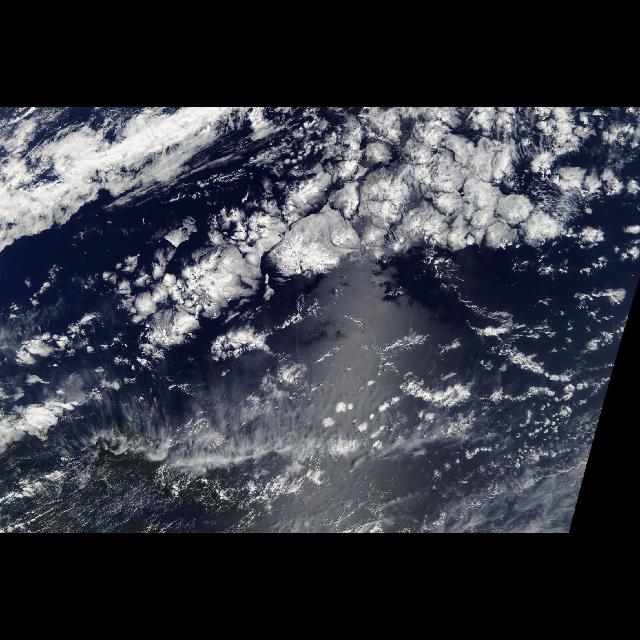Fish: (1, 107, 237, 239), (188, 306, 304, 368)
Flower: (9, 115, 628, 332), (8, 343, 190, 419)
Gravel: (290, 337, 610, 533)
